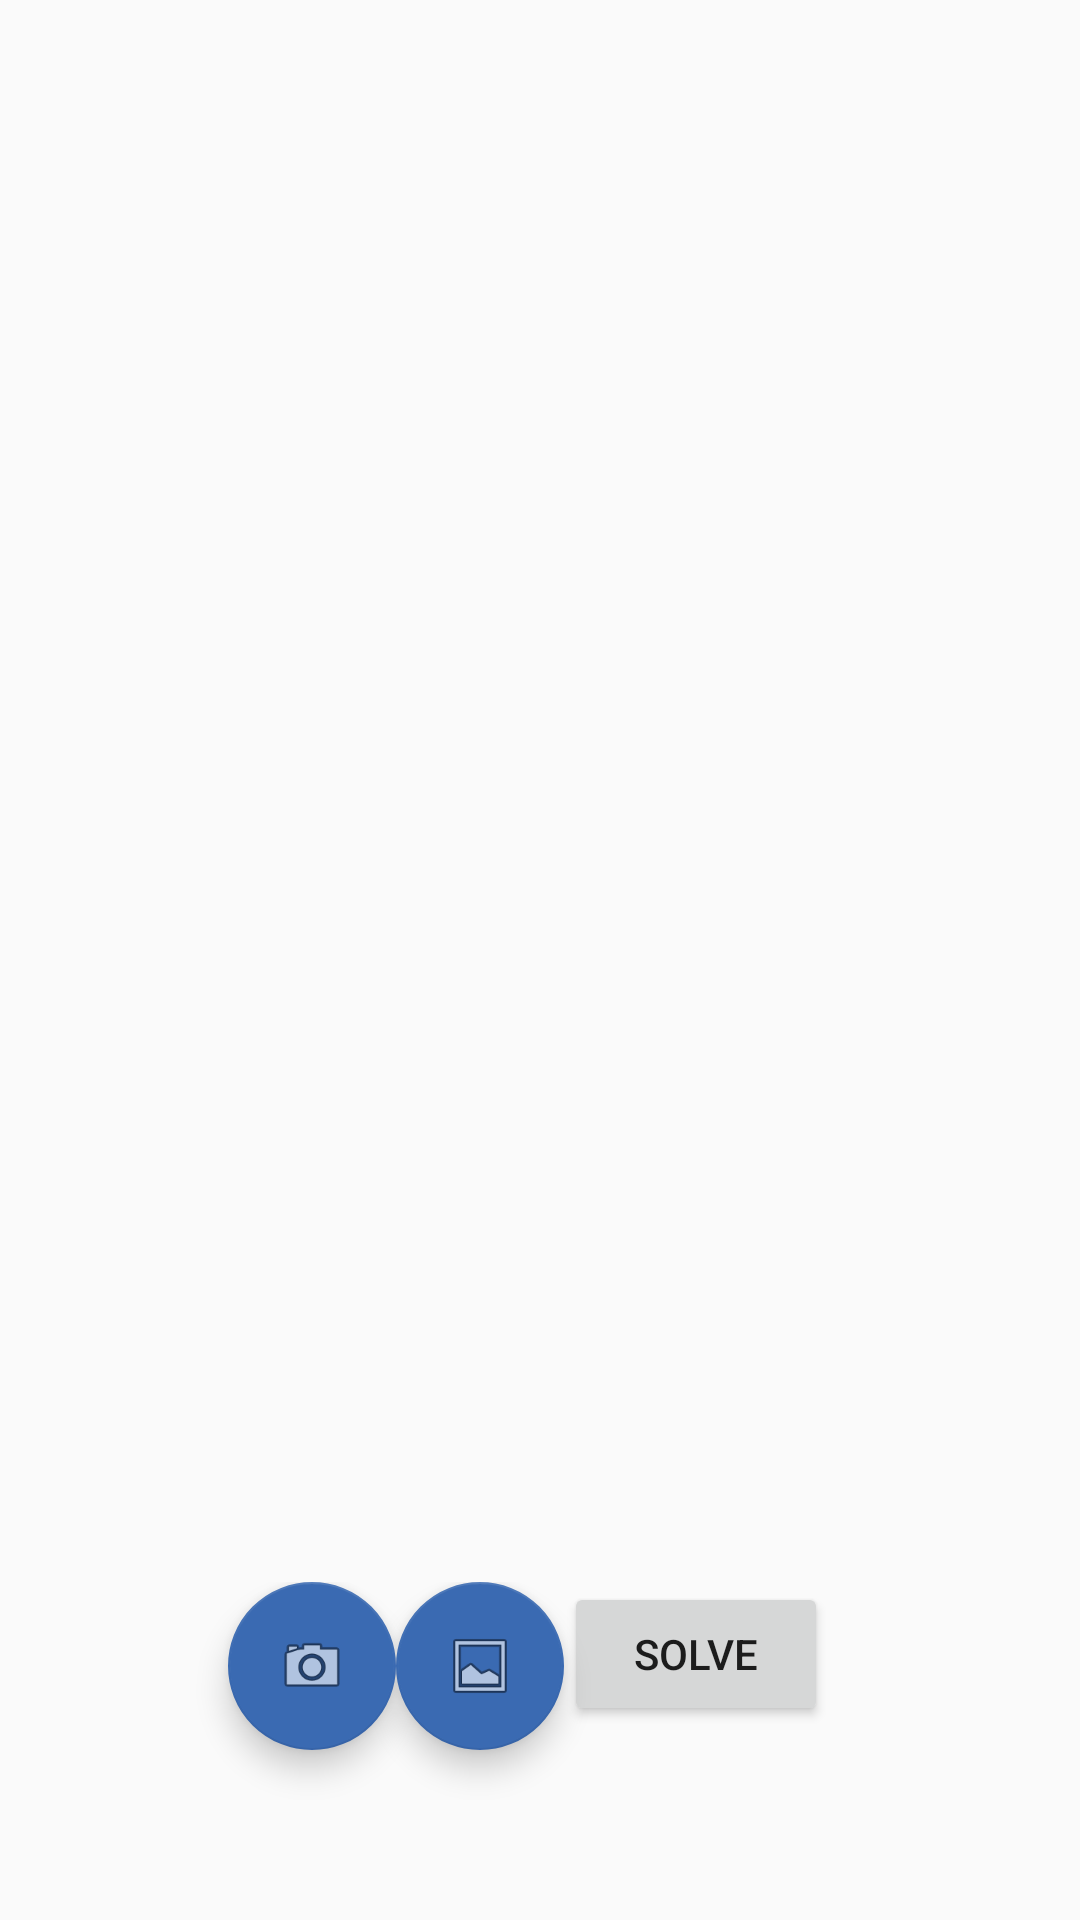

Screen size 1080×1920. Icon name, then its center in pixels as point (x, y):
camera: point (312, 1666)
gallery: point (480, 1666)
